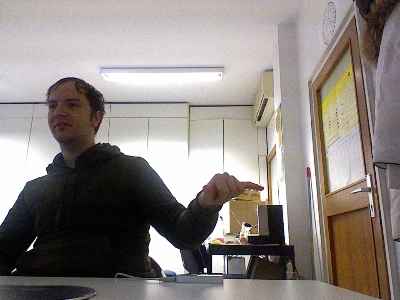六六六: (201, 171, 265, 204)
